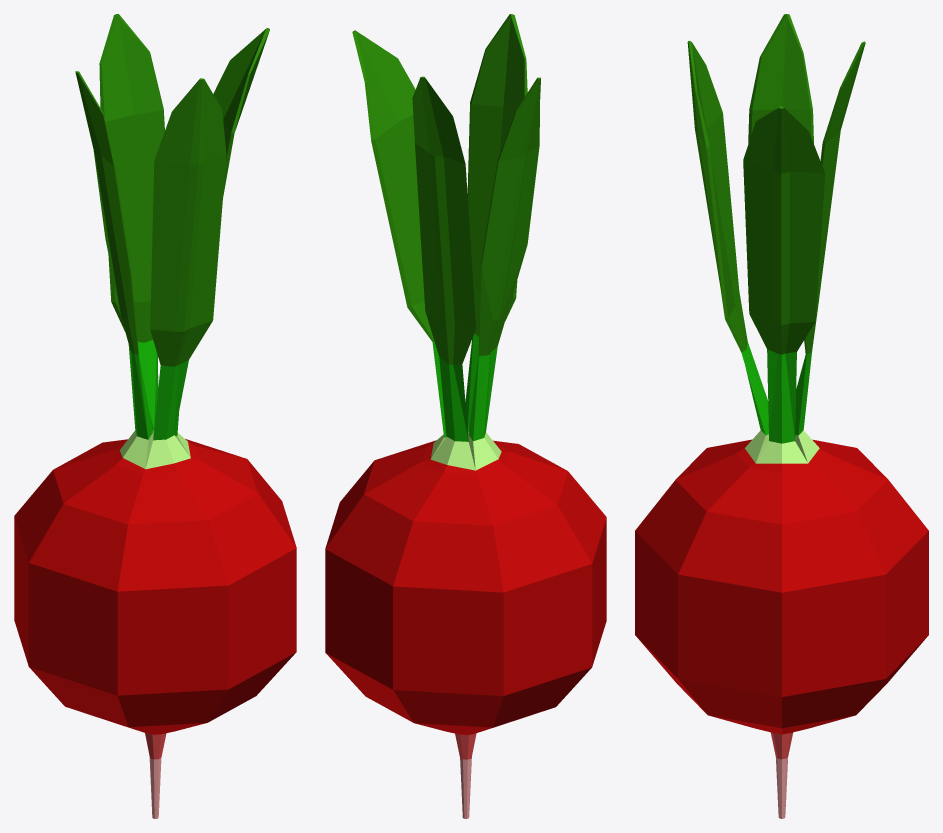
File: radish01.gltf
3 views of the same model, side by side, from view 1: azimuth 30°, elevation 25°; view 2: azimuth 150°, elevation 25°; view 3: azimuth 270°, elevation 25° (orthographic).
Visible parts, largest first — view 1: Cylinder; view 2: Cylinder; view 3: Cylinder.
Boxes of the visible parts, x1,y1,x2,y2 form: Cylinder: (14,14,296,818); Cylinder: (325,14,606,818); Cylinder: (635,14,928,818).
Size of the model in its own units: 0.0594 by 0.1729 by 0.0594.
1 material, 1 textured.
